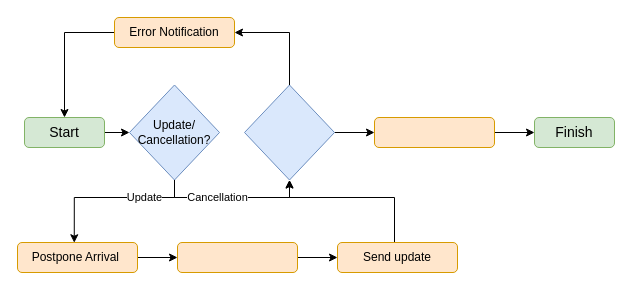
Some shapes in this 632 by 290 pixel diagram are drawn without their labels. Here are the shapes that lost their labels. From the top down, the centre of each, then its label:
At point (289, 132): "Accepted?".
At point (434, 132): "Success Notification".
At point (237, 257): "Prepone Departure".
